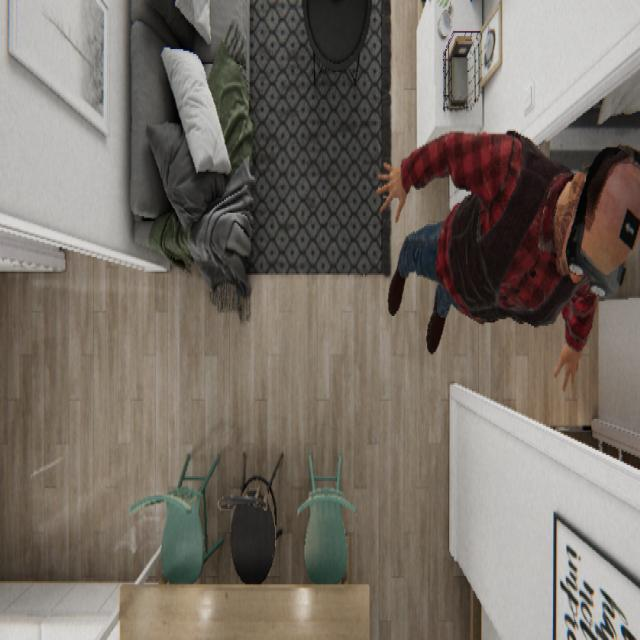Human: (375, 128, 638, 391)
UnityLogo: (618, 204, 638, 250)
